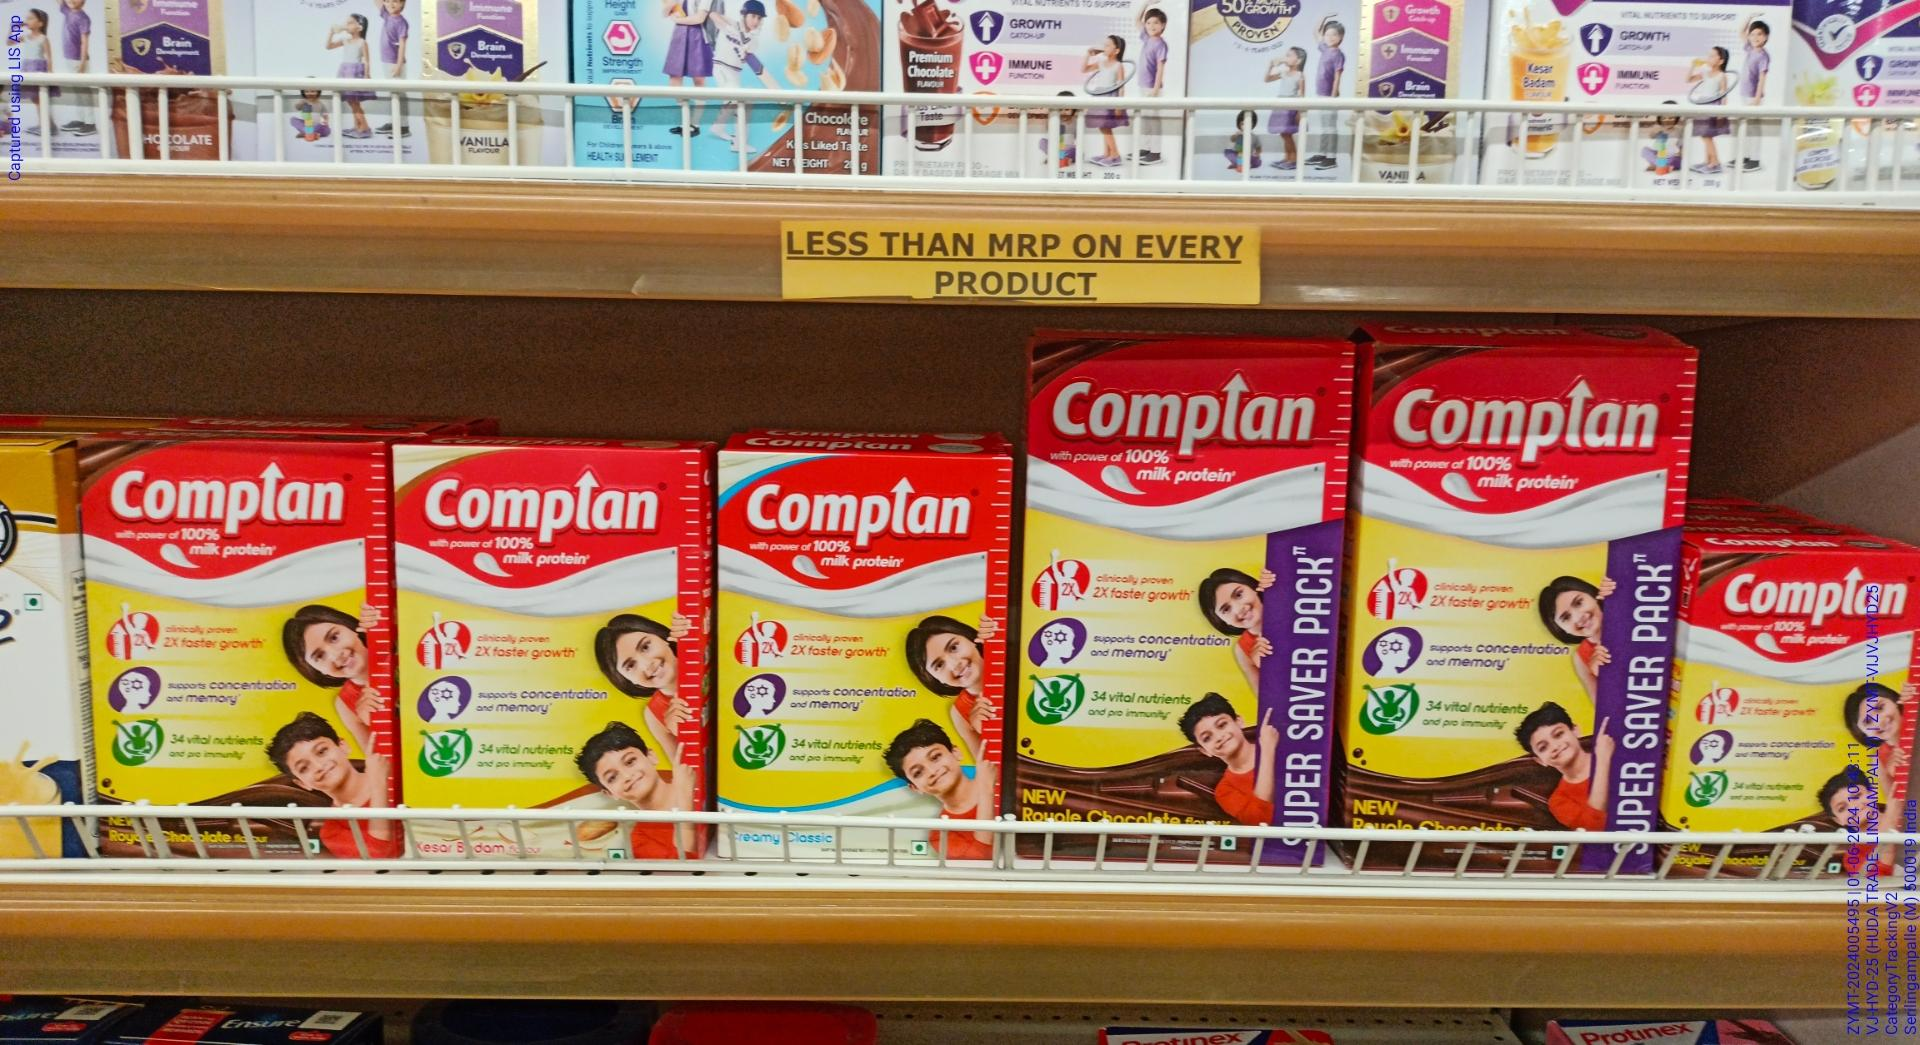COMPLAN_CHOCOLATE_1_KG_PACK: (1024, 335, 1332, 865), (1367, 344, 1663, 884)
COMPLAN_CHOCOLATE_200_GMS_PACK: (1682, 553, 1920, 888)
COMPLAN_CHOCOLATE_500_GMS_PACK: (78, 445, 382, 860)
COMPLAN_CREAMY_CLASSIC_500_G_PACK: (722, 450, 1002, 857)
COMPLAN_KESAR_BADAM_500_GMS_PACK: (396, 449, 703, 857)
